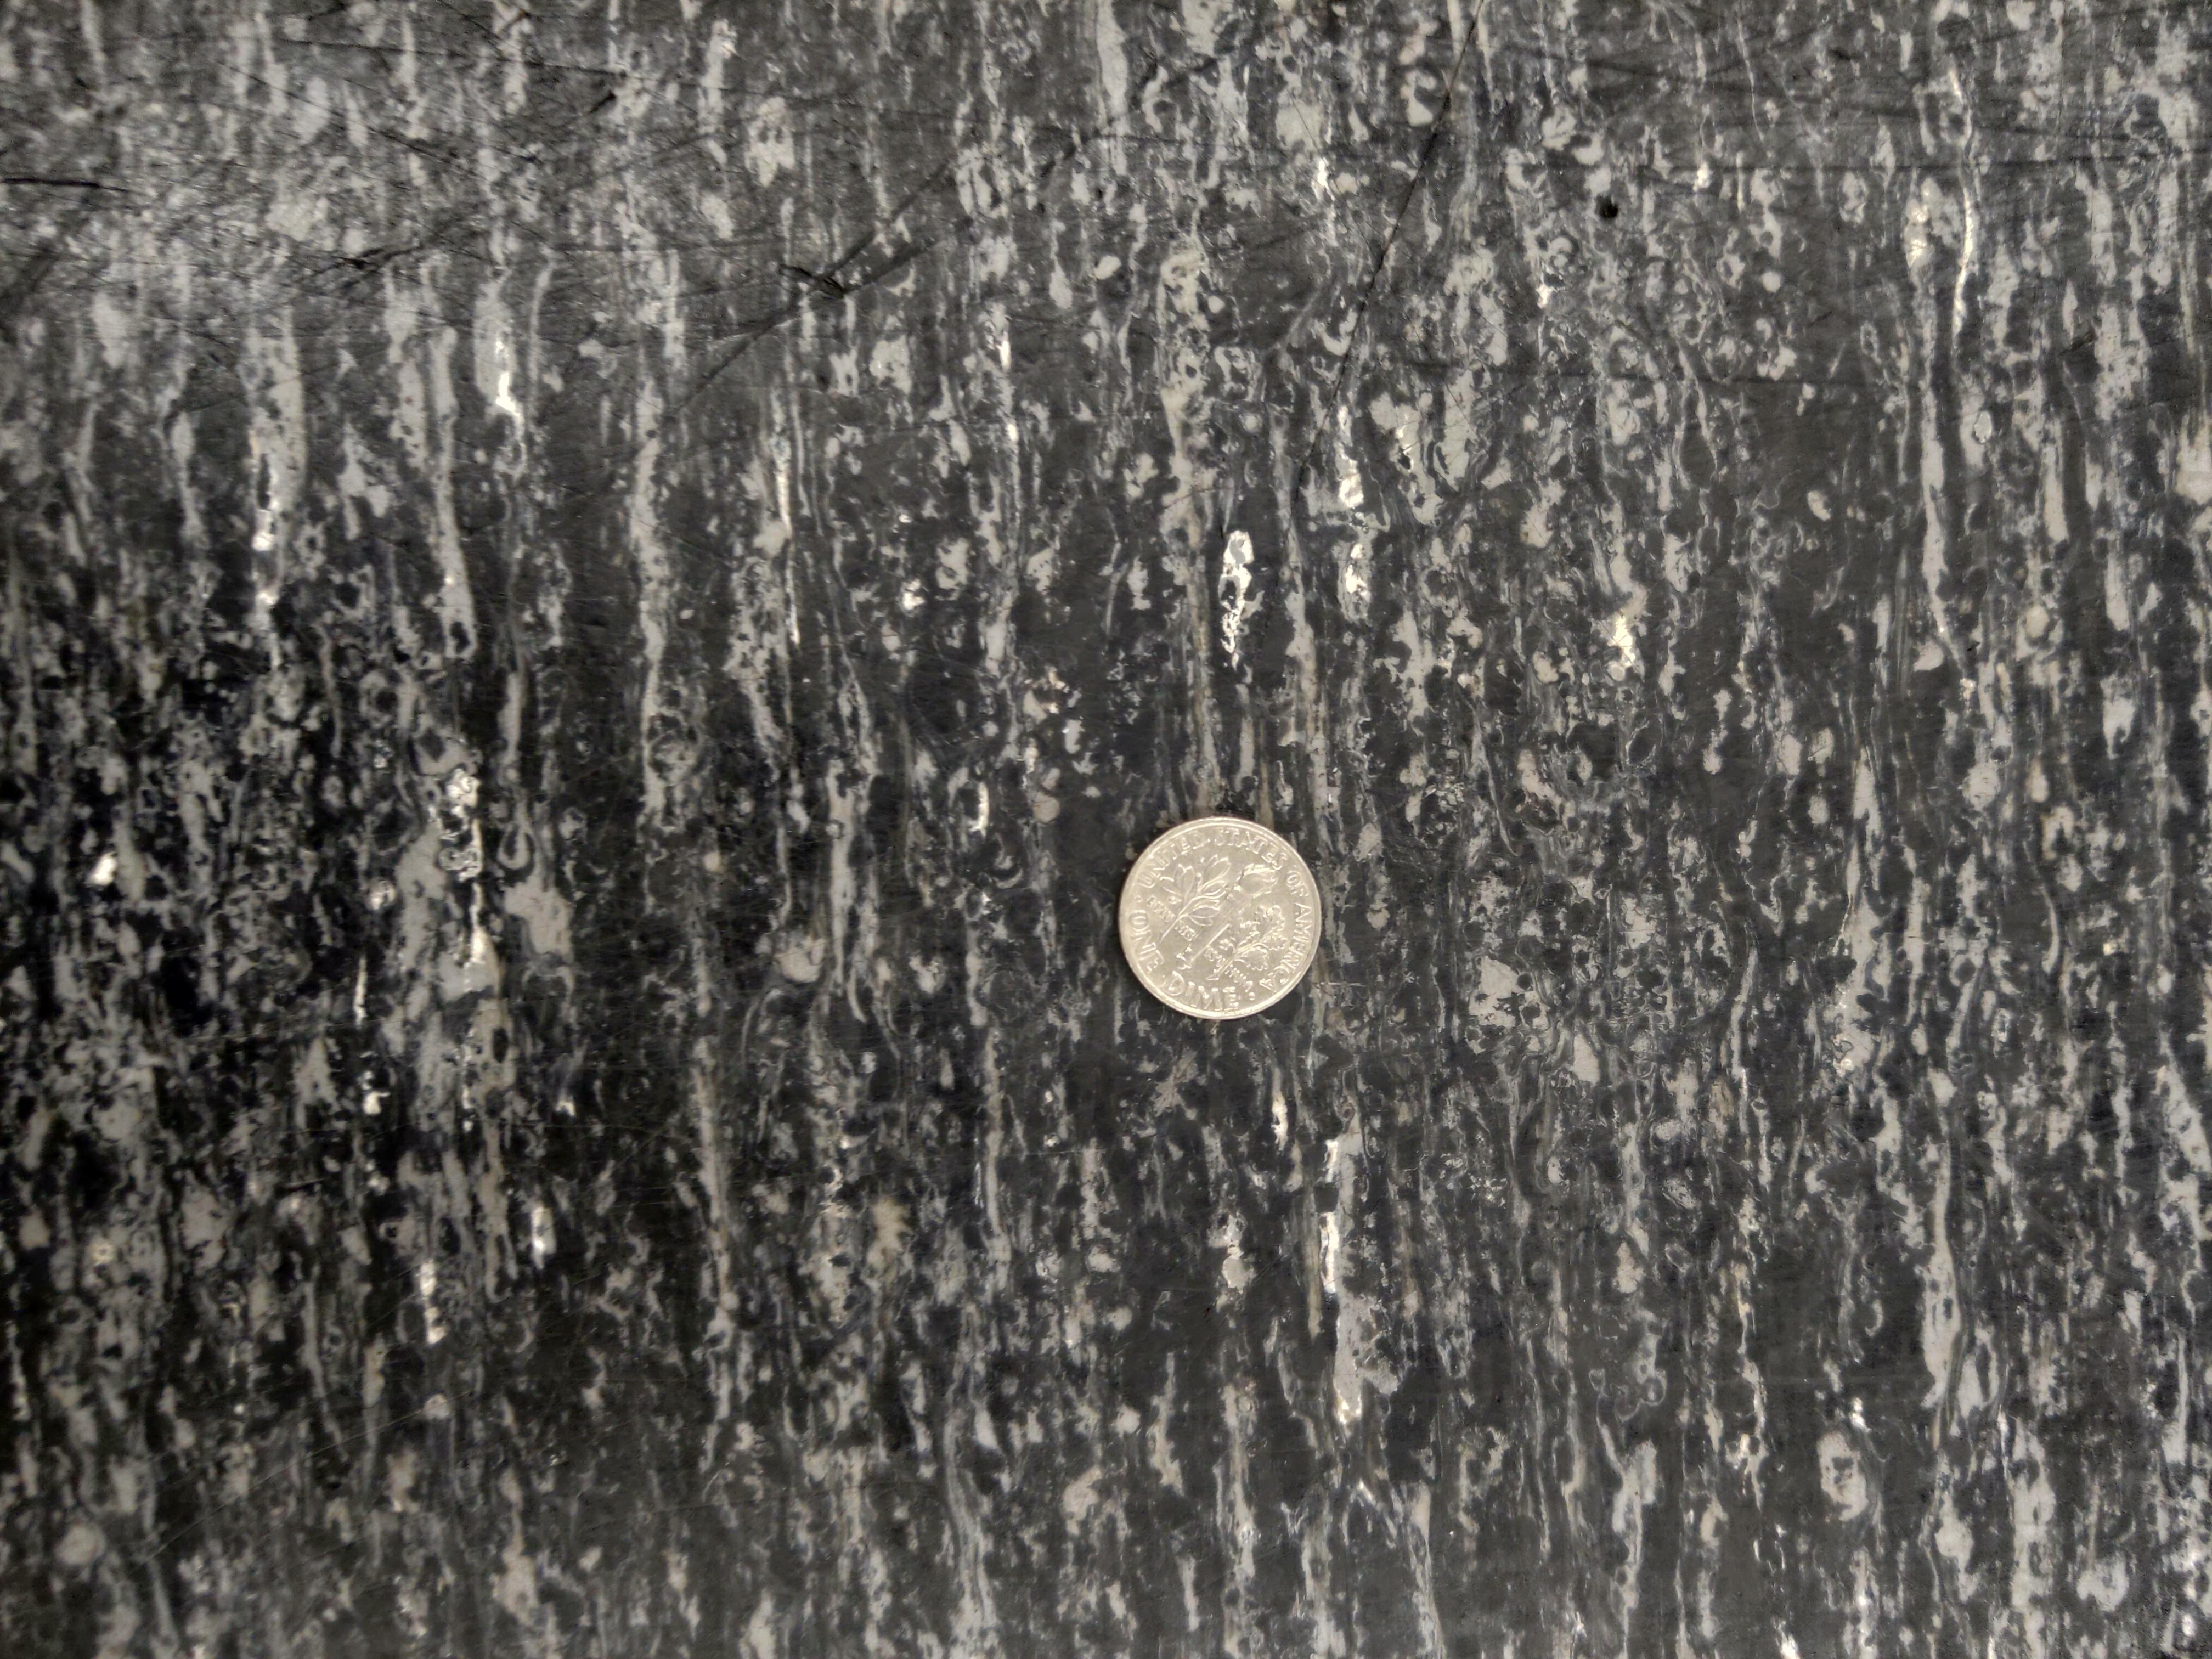Dime: (1115, 812, 1327, 1025)
